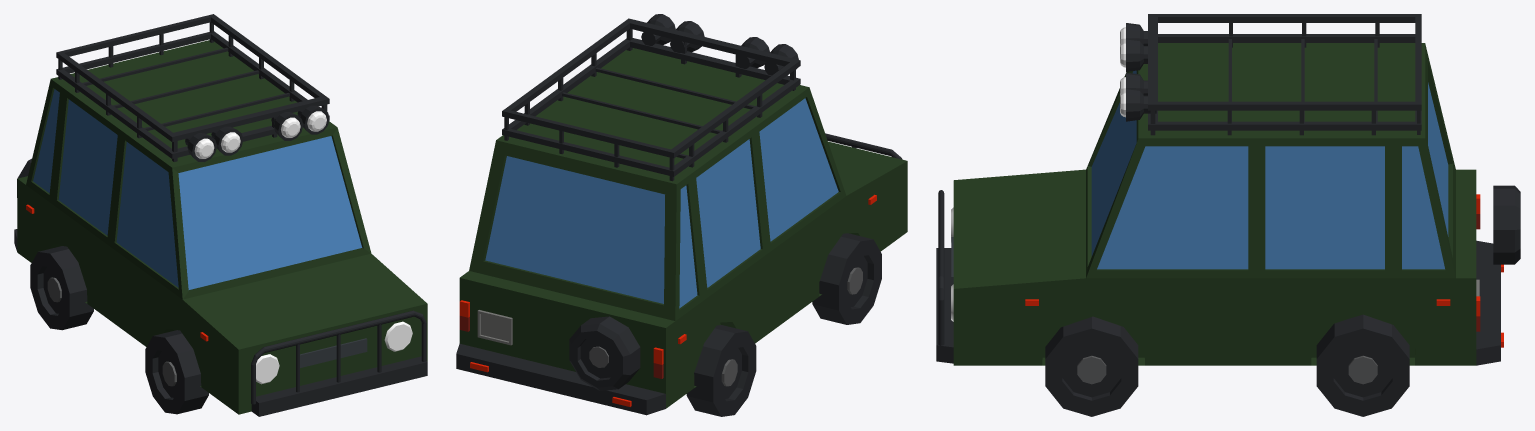
File: Car_4.fbx
The picture shows the model from 3 angles, left to right: view 1: azimuth 30°, elevation 25°; view 2: azimuth 150°, elevation 25°; view 3: azimuth 270°, elevation 25°; orthographic projection. The views are drawn at different scales.
Visible parts, largest first — view 1: Car_4; view 2: Car_4; view 3: Car_4.
Part boxes in pixels (<box>): Car_4: <box>14,14,427,416</box>; Car_4: <box>456,14,907,416</box>; Car_4: <box>936,14,1520,416</box>.
Bounding box in the file's own units: 178 × 198 × 351.
